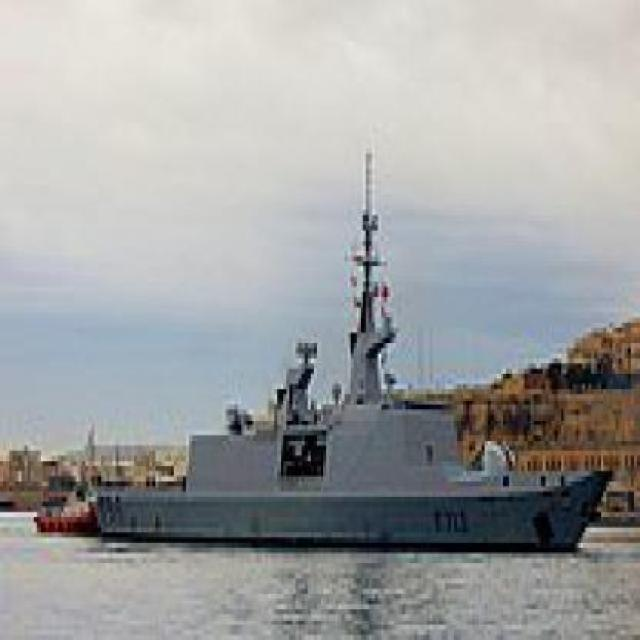warship2: (80, 119, 617, 554)
